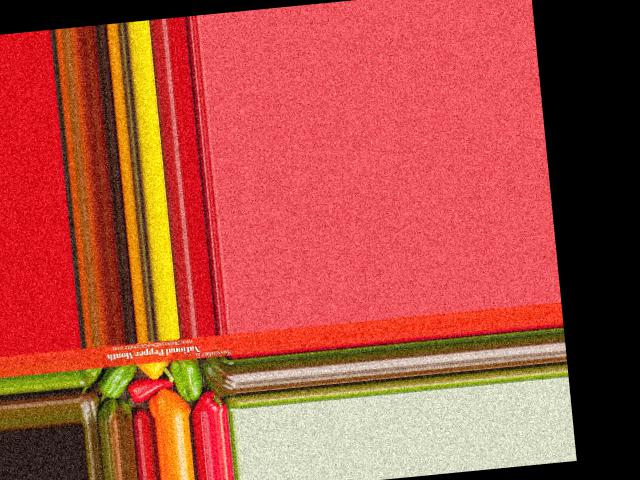bell_pepper: (201, 354, 236, 398)
